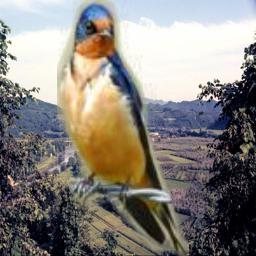Swallow: (57, 0, 189, 256)
